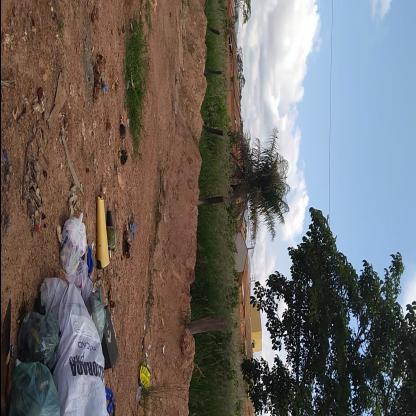lixo: (8, 194, 118, 416)
